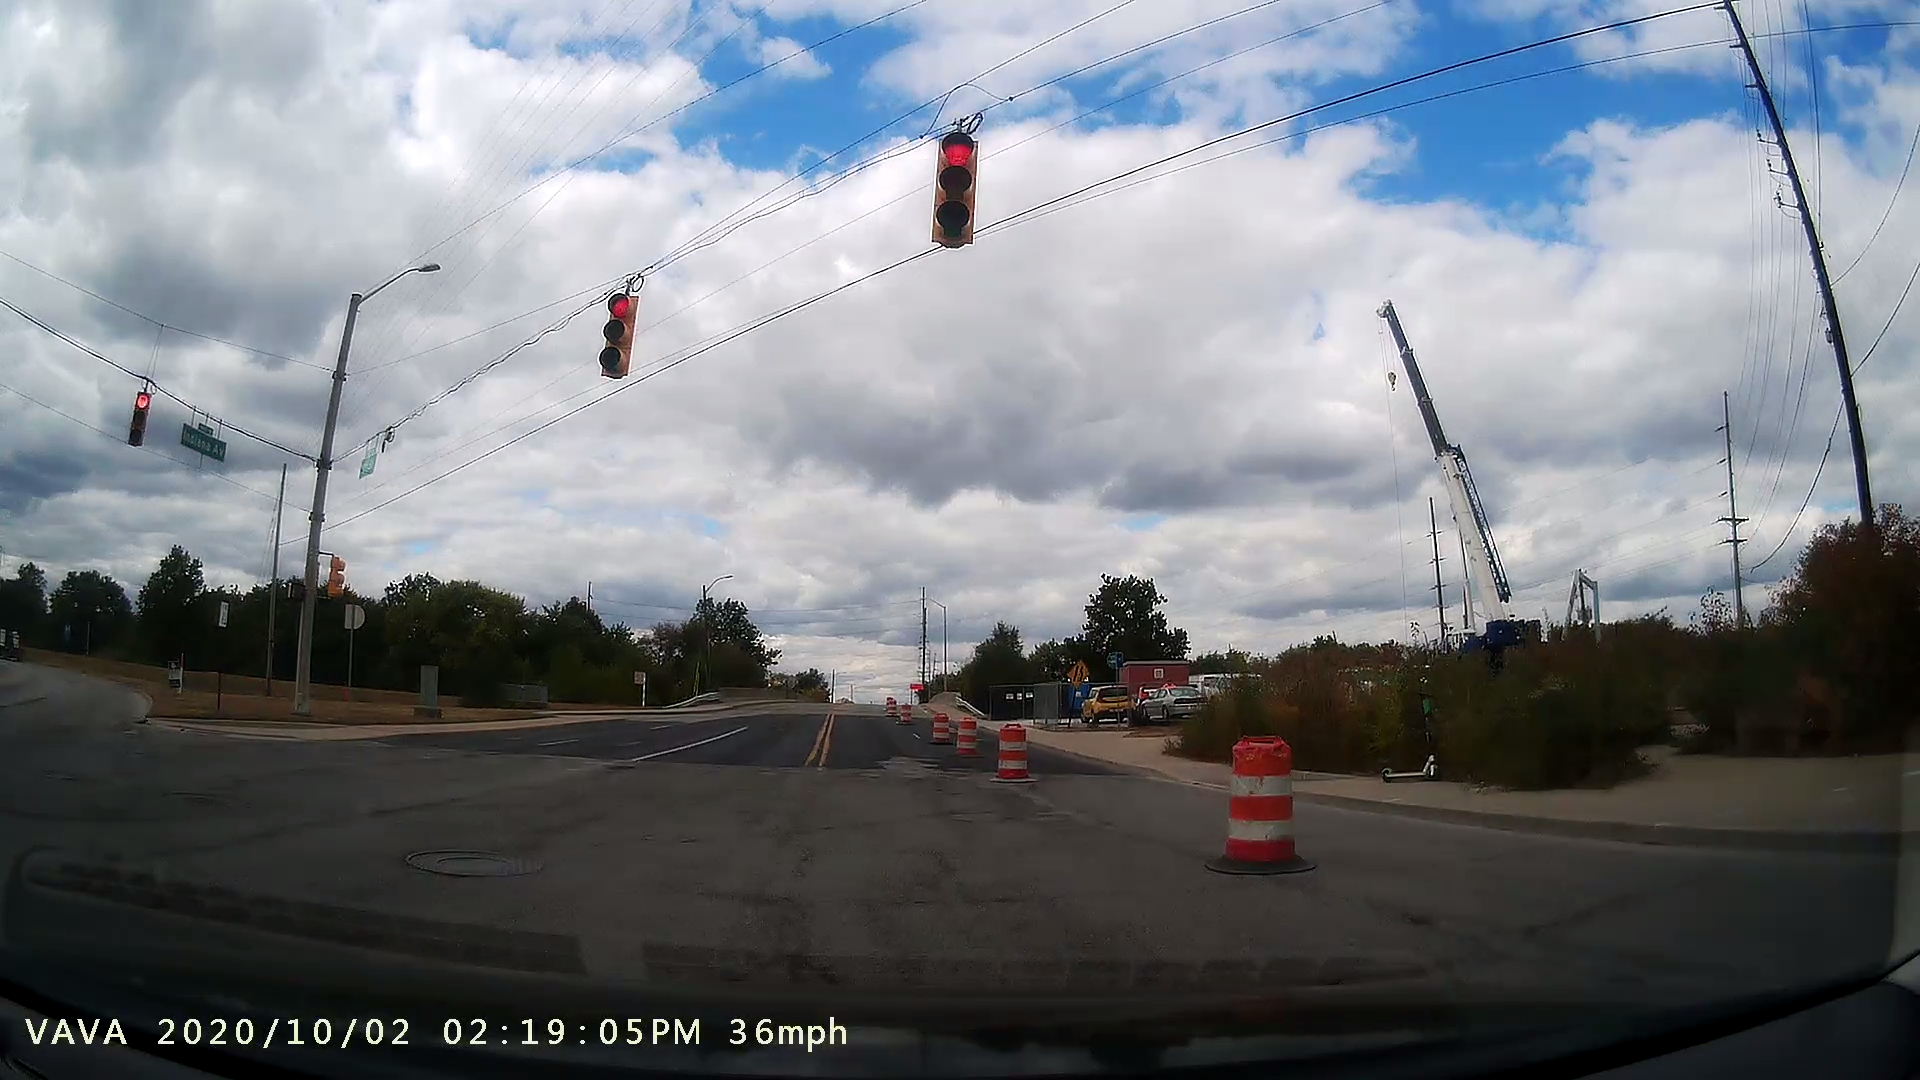const_barrel: (1188, 713, 1320, 887), (982, 711, 1039, 790), (945, 705, 985, 766)
